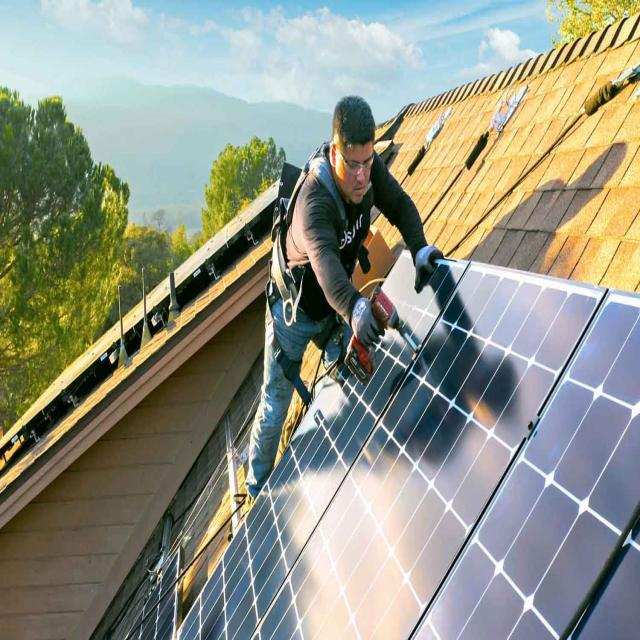dust-solar-panel: (179, 254, 640, 638)
